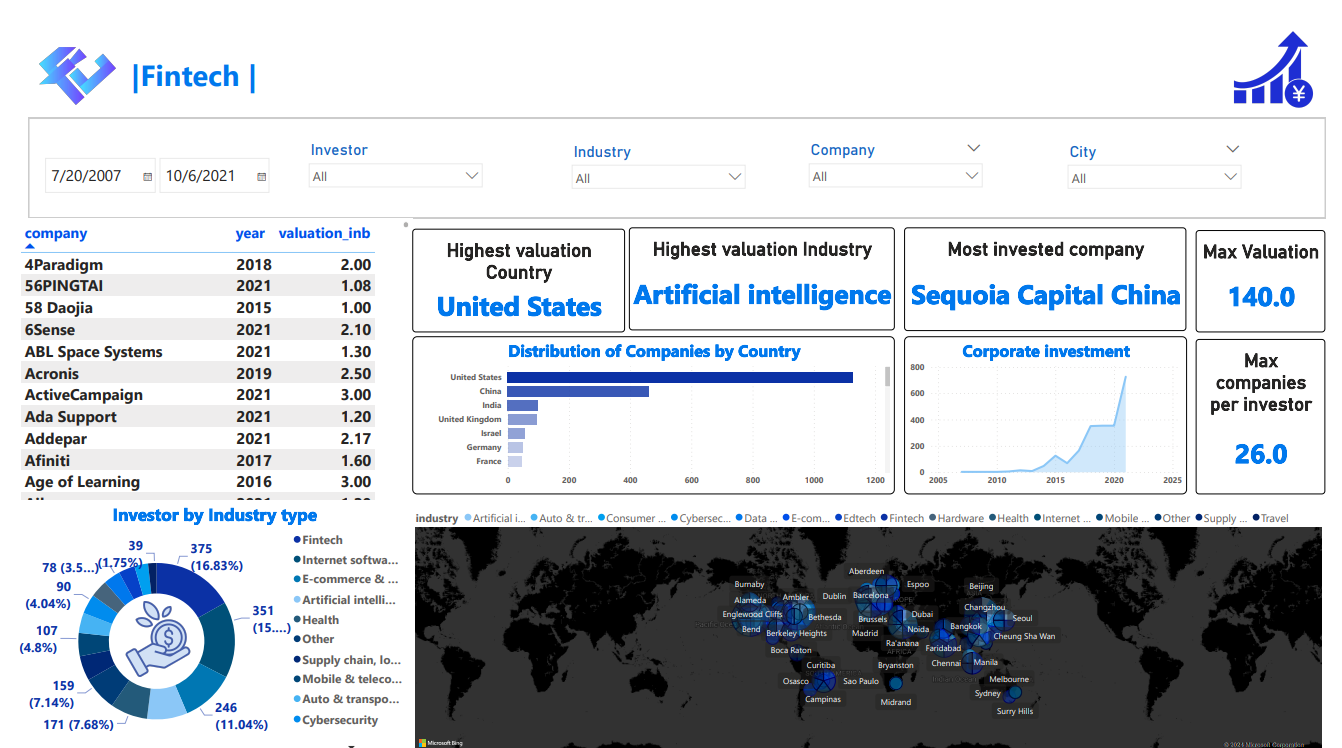

The dashboard page shown, as its layout file describes it:
{"tool":"powerbi","page":{"name":"Home","canvas":[1920,1080],"ordinal":0},"visuals":[{"type":"textbox","box":[150.3,43.2,300.5,78.2],"z":0},{"type":"shape","box":[15,141.7,1905,146.7],"z":1000},{"type":"slicer","fields":{"Values":["unicorn.city"]},"box":[1532.9,172.4,275,89.8],"z":2000},{"type":"slicer","fields":{"Values":["unicorn.company"]},"box":[1151.5,170.5,275,89.8],"z":3000},{"type":"slicer","fields":{"Values":["unicorn.industry"]},"box":[803.1,172.4,275,89.8],"z":4000},{"type":"slicer","fields":{"Values":["unicorn.date_joined"]},"box":[28.3,190,351.7,70],"z":5000},{"type":"slicer","fields":{"Values":["unicorn.investor"]},"box":[418.1,170.5,275,89.8],"z":6000},{"type":"map","fields":{"Size":["Count(fintech.type)"],"Category":["unicorn.city"],"Series":["unicorn.industry"]},"box":[580,706.7,1340,373.3],"z":7000},{"type":"tableEx","fields":{"Values":["unicorn.company","unicorn.year","unicorn.valuation_inb"]},"box":[14,302,556,392],"z":8000},{"type":"donutChart","title":"Investor by Industry type","fields":{"Category":["unicorn.industry"],"Y":["CountNonNull(unicorn.investor)"]},"box":[0,705.9,579.4,374.1],"z":9000},{"type":"card","title":"Highest valuation Country","fields":{"Values":["Result_2.First country max per total_valuation"]},"box":[580,302.7,310.9,154.5],"z":10000},{"type":"card","title":"Highest valuation Industry","fields":{"Values":["Result_1.Industry with Highest Avg Valuation"]},"box":[898.6,302.9,390,151.4],"z":11000},{"type":"card","title":"Most invested company","fields":{"Values":["investors.Industry with Highest Invest"]},"box":[1301.9,302.5,414.4,152.2],"z":12000},{"type":"clusteredBarChart","title":"Distribution of Companies by Country","fields":{"Category":["Result_7.country"],"Y":["Sum(Result_7.number_of_companies)"]},"box":[580,461.7,708.3,231.7],"z":13000},{"type":"areaChart","title":"Corporate investment","fields":{"Category":["unicorn.year"],"Y":["CountNonNull(unicorn.company)"]},"box":[1301.7,461.7,415,231.7],"z":14000},{"type":"card","title":"Max Valuation","fields":{"Values":["Max(unicorn.valuation_inb)"]},"box":[1730,305,190,150],"z":15000},{"type":"card","title":"Max companies per  investor","fields":{"Values":["Max(investors.total)"]},"box":[1730,465,190,228.3],"z":16000},{"type":"actionButton","box":[380,56,274,52],"z":17000},{"type":"image","box":[14,0,150,142],"z":18000},{"type":"image","box":[142,854,124,110],"z":19000},{"type":"image","box":[1730,466,52,50],"z":20000}]}

Visuals, with their boxes in screenshot pixels (x1, y1, x2, y2), scaled from the page's 1920x1080 canvas onto the 1342x748 screenshot:
textbox: (105,30,315,84)
shape: (10,98,1341,200)
slicer - unicorn.city: (1071,119,1264,182)
slicer - unicorn.company: (805,118,997,180)
slicer - unicorn.industry: (561,119,754,182)
slicer - unicorn.date_joined: (20,132,266,180)
slicer - unicorn.investor: (292,118,484,180)
map - Count(fintech.type) x unicorn.city: (405,489,1341,747)
tableEx - unicorn.company x unicorn.year: (10,209,398,481)
"Investor by Industry type" donutChart: (0,489,405,747)
"Highest valuation Country" card: (405,210,623,317)
"Highest valuation Industry" card: (628,210,901,315)
"Most invested company" card: (910,210,1200,315)
"Distribution of Companies by Country" clusteredBarChart: (405,320,900,480)
"Corporate investment" areaChart: (910,320,1200,480)
"Max Valuation" card: (1209,211,1341,315)
"Max companies per  investor" card: (1209,322,1341,480)
actionButton: (266,39,457,75)
image: (10,0,115,98)
image: (99,591,186,668)
image: (1209,323,1246,357)
